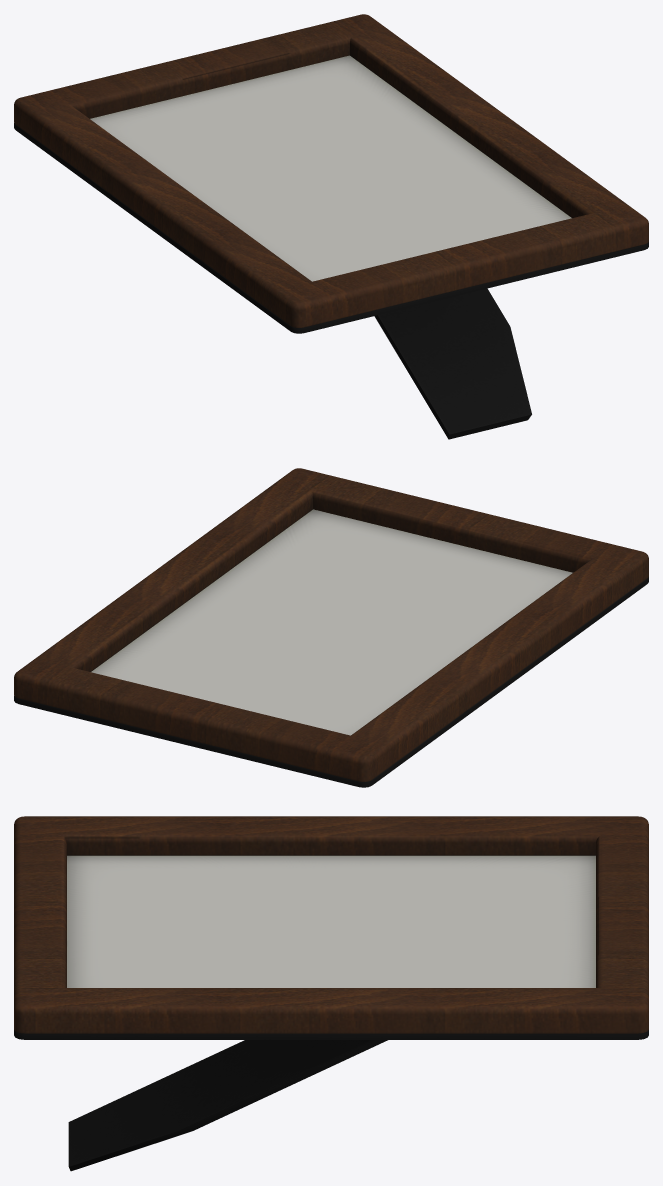
File: rama_fot.obj
3 renders of one model, top to bottom at view 1: azimuth 30°, elevation 25°; view 2: azimuth 150°, elevation 25°; view 3: azimuth 270°, elevation 25°, orthographic. The views are drawn at different scales.
Parts seen in each view (by area): view 1: foto, rama, noga; view 2: foto, rama, noga; view 3: foto, rama, noga.
Boxes of the visible parts, <box> form: foto: <box>90,55,571,281</box>; rama: <box>14,14,648,327</box>; noga: <box>14,123,648,439</box>; foto: <box>91,509,572,735</box>; rama: <box>14,468,648,781</box>; noga: <box>14,577,648,787</box>; foto: <box>67,855,595,987</box>; rama: <box>14,816,648,1033</box>; noga: <box>14,1030,648,1171</box>.
Bounding box in the file's own units: 0.13 × 0.068 × 0.18.
Materials: 1 (1 with a texture image).
